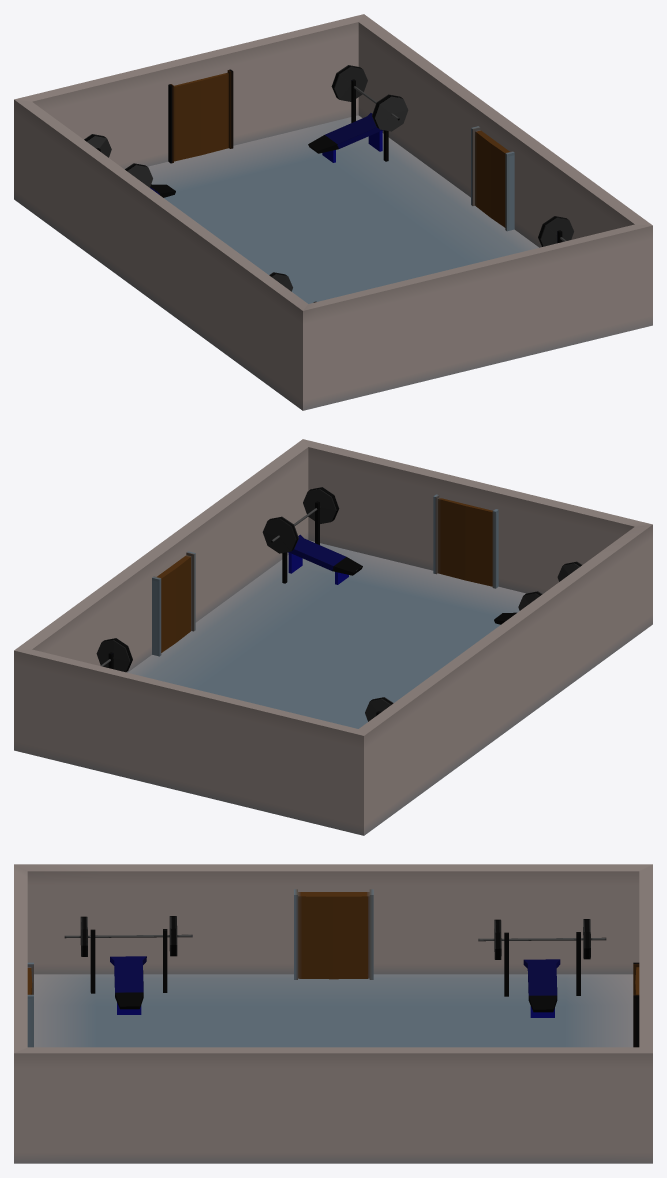
The model's file is Acadeimia (3).fbx.
3 renders of one model, top to bottom at view 1: azimuth 30°, elevation 25°; view 2: azimuth 150°, elevation 25°; view 3: azimuth 270°, elevation 25°, orthographic. The views are drawn at different scales.
Parts seen in each view (by area): view 1: Crademia; view 2: Crademia; view 3: Crademia.
Part boxes in pixels (x1,y1,x2,y2): Crademia: (14, 14, 652, 410); Crademia: (14, 439, 652, 835); Crademia: (14, 864, 652, 1163).
Bounding box in the file's own units: 3676 × 1003 × 5255.
